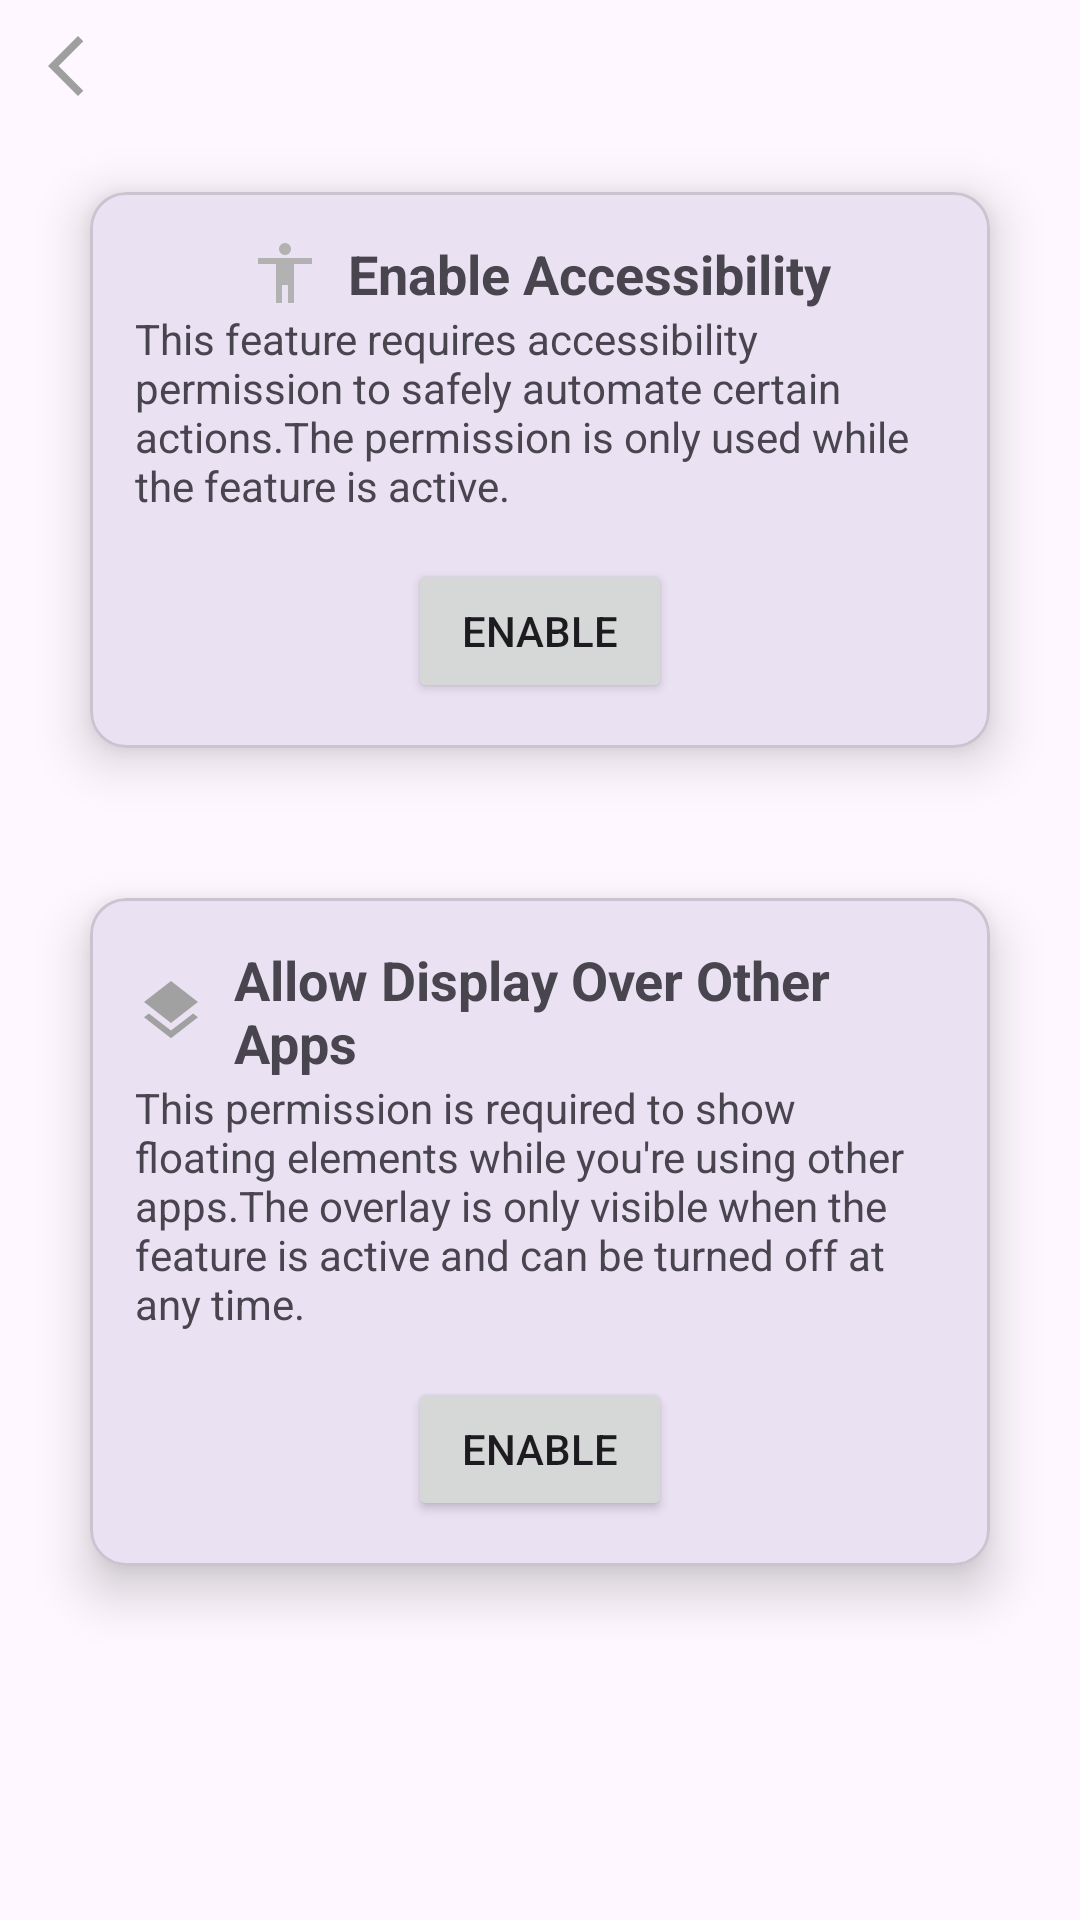

Named icons in this screenshot (1080×1920) and their bounding boxes, (left=x1, top=y1, right=x2, bottom=y2):
arrow back: (left=48, top=36, right=83, bottom=96)
